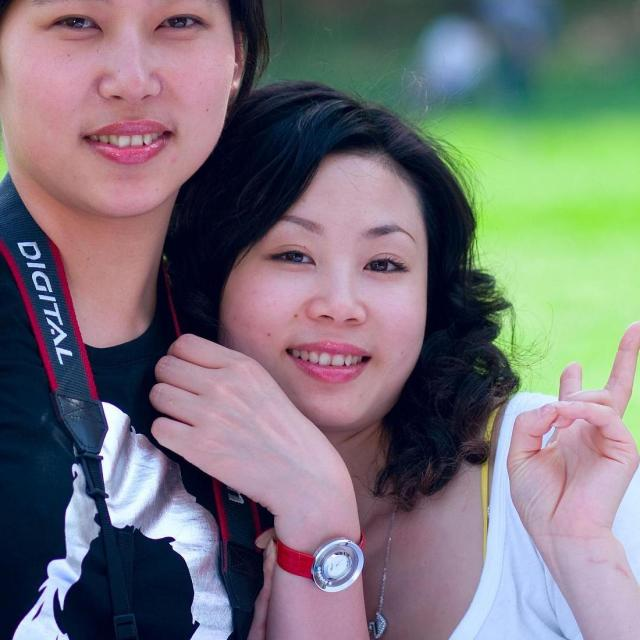no-glass: (38, 9, 210, 42), (254, 248, 412, 274)
